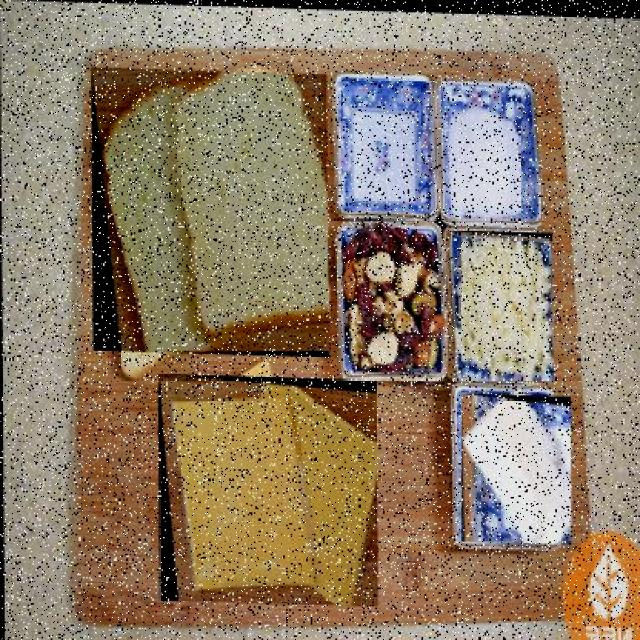Bread: (92, 66, 330, 357)
Butter: (460, 391, 572, 543)
Cheese: (158, 373, 379, 605), (446, 227, 554, 379)
